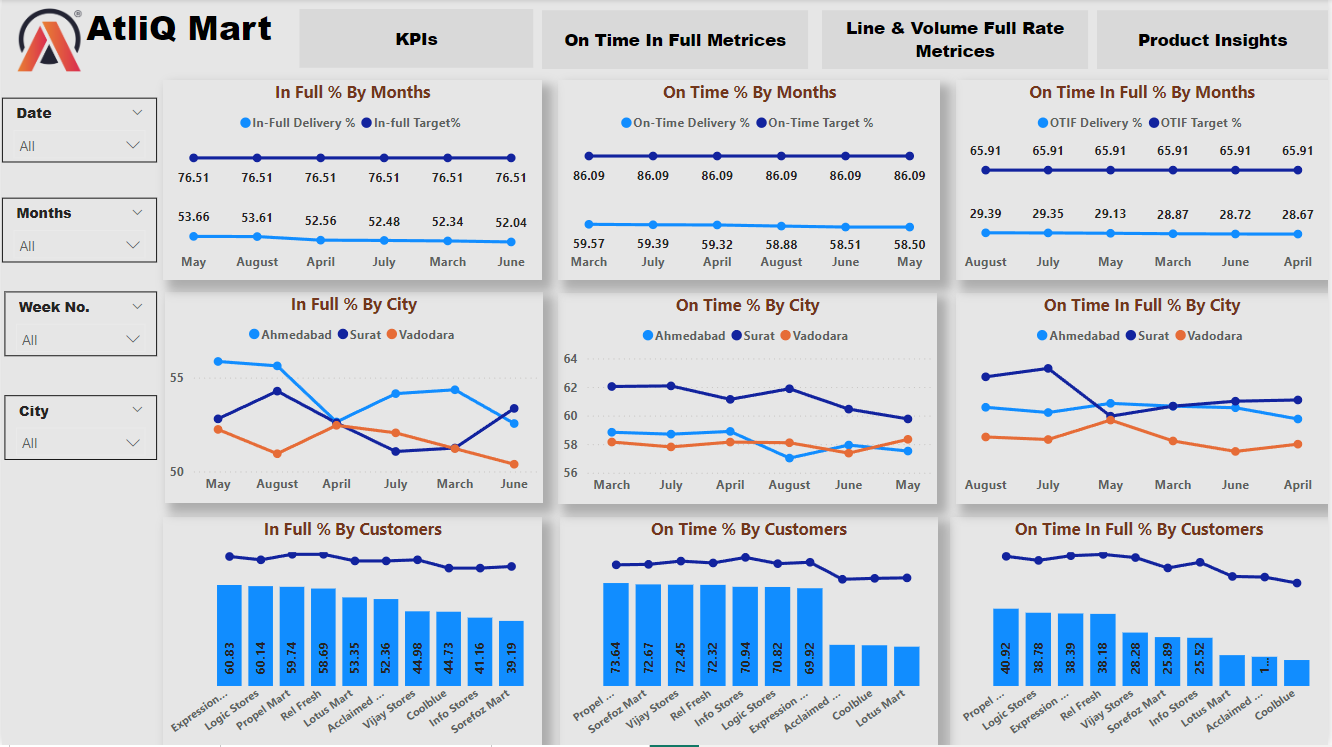

This screenshot's page, from the dashboard's own definition file:
{"tool":"powerbi","page":{"name":"On time in full Metrices","canvas":[1280,720],"ordinal":1},"visuals":[{"type":"textbox","box":[9.7,0,290.8,78.4],"z":0},{"type":"image","box":[10,0,74,78.2],"z":1000},{"type":"slicer","fields":{"Values":["dim_date.date"]},"box":[0,95.3,149.6,62.7],"z":2000},{"type":"slicer","fields":{"Values":["dim_date.mmm_yy.Variation.Date Hierarchy.Month"]},"box":[0,191.8,149.6,62.7],"z":3000},{"type":"slicer","fields":{"Values":["dim_date.week_no"]},"box":[2.4,282.3,147.2,62.7],"z":4000},{"type":"slicer","fields":{"Values":["dim_customers.city"]},"box":[2.4,382.4,147.2,62.7],"z":5000},{"type":"actionButton","box":[287.1,9.7,225.6,56.7],"z":6000},{"type":"actionButton","box":[521.2,10.9,257,56.7],"z":7000},{"type":"actionButton","box":[791.4,10.9,257,56.7],"z":8000},{"type":"actionButton","box":[1056.8,10.9,223.2,56.7],"z":9000},{"type":"lineChart","title":"In Full % By  Months","fields":{"Y":["fact_orders_aggregate.In-Full Delivery %","fact_orders_aggregate.In-full Target%"],"Category":["dim_date.Month Name"]},"box":[155.6,78.4,365.6,193],"z":10000},{"type":"lineChart","title":"On Time % By  Months","fields":{"Category":["dim_date.Month Name"],"Y":["fact_orders_aggregate.On-Time Delivery %","fact_orders_aggregate.On-Time Target %"]},"box":[536.9,78.4,369.2,193],"z":11000},{"type":"lineChart","title":"On Time In Full % By  Months","fields":{"Category":["dim_date.Month Name"],"Y":["fact_orders_aggregate.OTIF Delivery %","fact_orders_aggregate.OTIF Target %"]},"box":[920.5,78.4,359.5,193],"z":12000},{"type":"lineChart","title":"In Full % By City","fields":{"Category":["dim_date.Month Name"],"Y":["fact_orders_aggregate.In-Full Delivery %"],"Series":["dim_customers.city"]},"box":[156.8,282.3,365.6,203.9],"z":13000},{"type":"lineClusteredColumnComboChart","title":"In Full % By Customers","fields":{"Category":["dim_customers.customer_name"],"Y":["fact_orders_aggregate.In-Full Delivery %"],"Y2":["fact_orders_aggregate.In-full Target%"]},"box":[155.6,499.5,365.6,220.8],"z":14000},{"type":"lineChart","title":"On Time % By City","fields":{"Category":["dim_date.Month Name"],"Series":["dim_customers.city"],"Y":["fact_orders_aggregate.On-Time Delivery %"]},"box":[536.9,283.5,365.6,203.9],"z":15000},{"type":"lineChart","title":"On Time In Full % By City","fields":{"Category":["dim_date.Month Name"],"Y":["fact_orders_aggregate.OTIF Delivery %"],"Series":["dim_customers.city"]},"box":[920.5,283.5,359.5,203.9],"z":16000},{"type":"lineClusteredColumnComboChart","title":"On Time % By Customers","fields":{"Category":["dim_customers.customer_name"],"Y":["fact_orders_aggregate.On-Time Delivery %"],"Y2":["fact_orders_aggregate.On-Time Target %"]},"box":[538.1,499.5,365.6,220.8],"z":17000},{"type":"lineClusteredColumnComboChart","title":"On Time In Full % By Customers","fields":{"Category":["dim_customers.customer_name"],"Y":["fact_orders_aggregate.OTIF Delivery %"],"Y2":["fact_orders_aggregate.OTIF Target %"]},"box":[914.5,499.5,365.6,220.8],"z":18000}]}

Visuals, with their boxes in screenshot pixels (x1, y1, x2, y2), scaled from the page's 1280x720 canvas onto the 1332x747 screenshot:
textbox: left=10, top=0, right=313, bottom=81
image: left=10, top=0, right=87, bottom=81
slicer - dim_date.date: left=0, top=99, right=156, bottom=164
slicer - dim_date.mmm_yy.Variation.Date Hierarchy.Month: left=0, top=199, right=156, bottom=264
slicer - dim_date.week_no: left=2, top=293, right=156, bottom=358
slicer - dim_customers.city: left=2, top=397, right=156, bottom=462
actionButton: left=299, top=10, right=534, bottom=69
actionButton: left=542, top=11, right=810, bottom=70
actionButton: left=824, top=11, right=1091, bottom=70
actionButton: left=1100, top=11, right=1331, bottom=70
"In Full % By  Months" lineChart: left=162, top=81, right=542, bottom=282
"On Time % By  Months" lineChart: left=559, top=81, right=943, bottom=282
"On Time In Full % By  Months" lineChart: left=958, top=81, right=1331, bottom=282
"In Full % By City" lineChart: left=163, top=293, right=544, bottom=504
"In Full % By Customers" lineClusteredColumnComboChart: left=162, top=518, right=542, bottom=746
"On Time % By City" lineChart: left=559, top=294, right=939, bottom=506
"On Time In Full % By City" lineChart: left=958, top=294, right=1331, bottom=506
"On Time % By Customers" lineClusteredColumnComboChart: left=560, top=518, right=940, bottom=746
"On Time In Full % By Customers" lineClusteredColumnComboChart: left=952, top=518, right=1331, bottom=746
